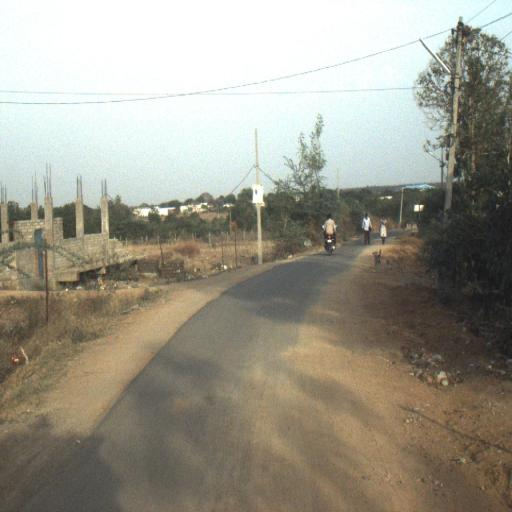street_light_0: (419, 37, 459, 92), (428, 152, 444, 168)
